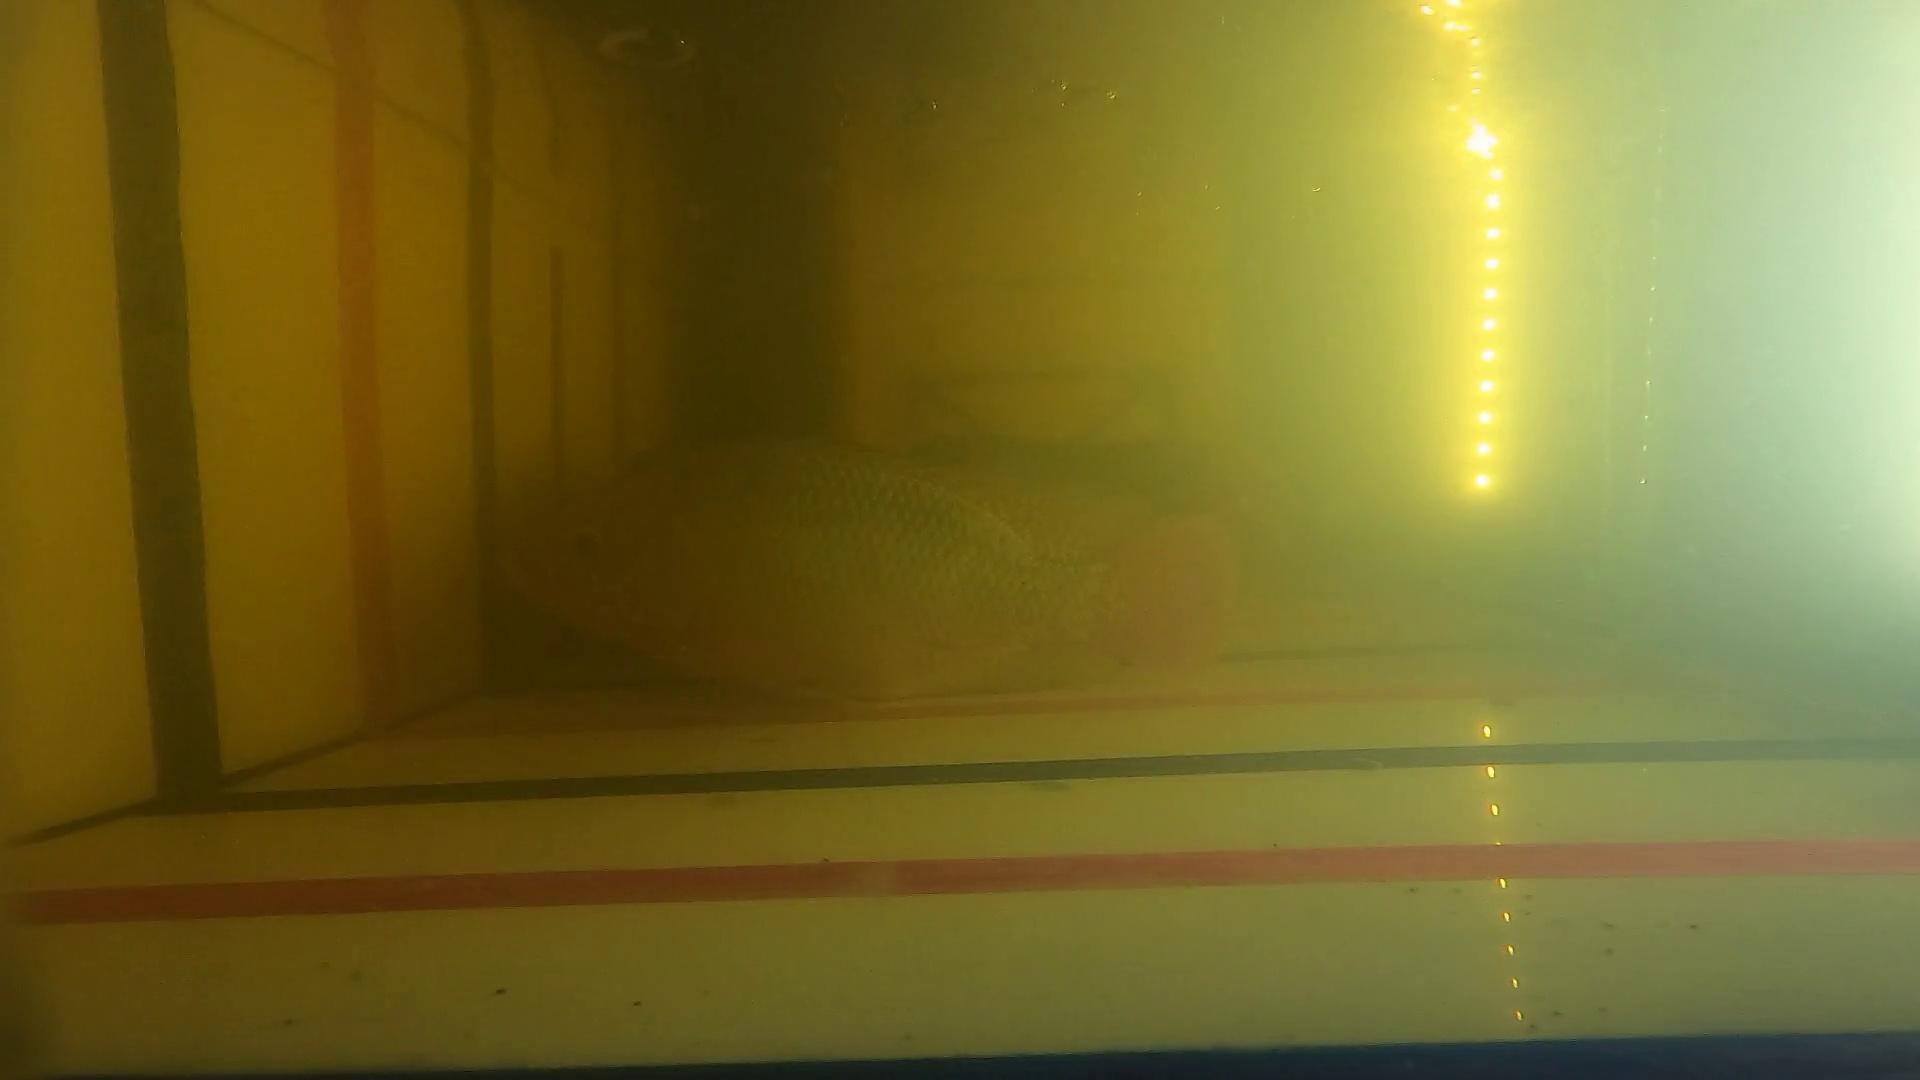Tilapia: (498, 435, 1174, 705)
